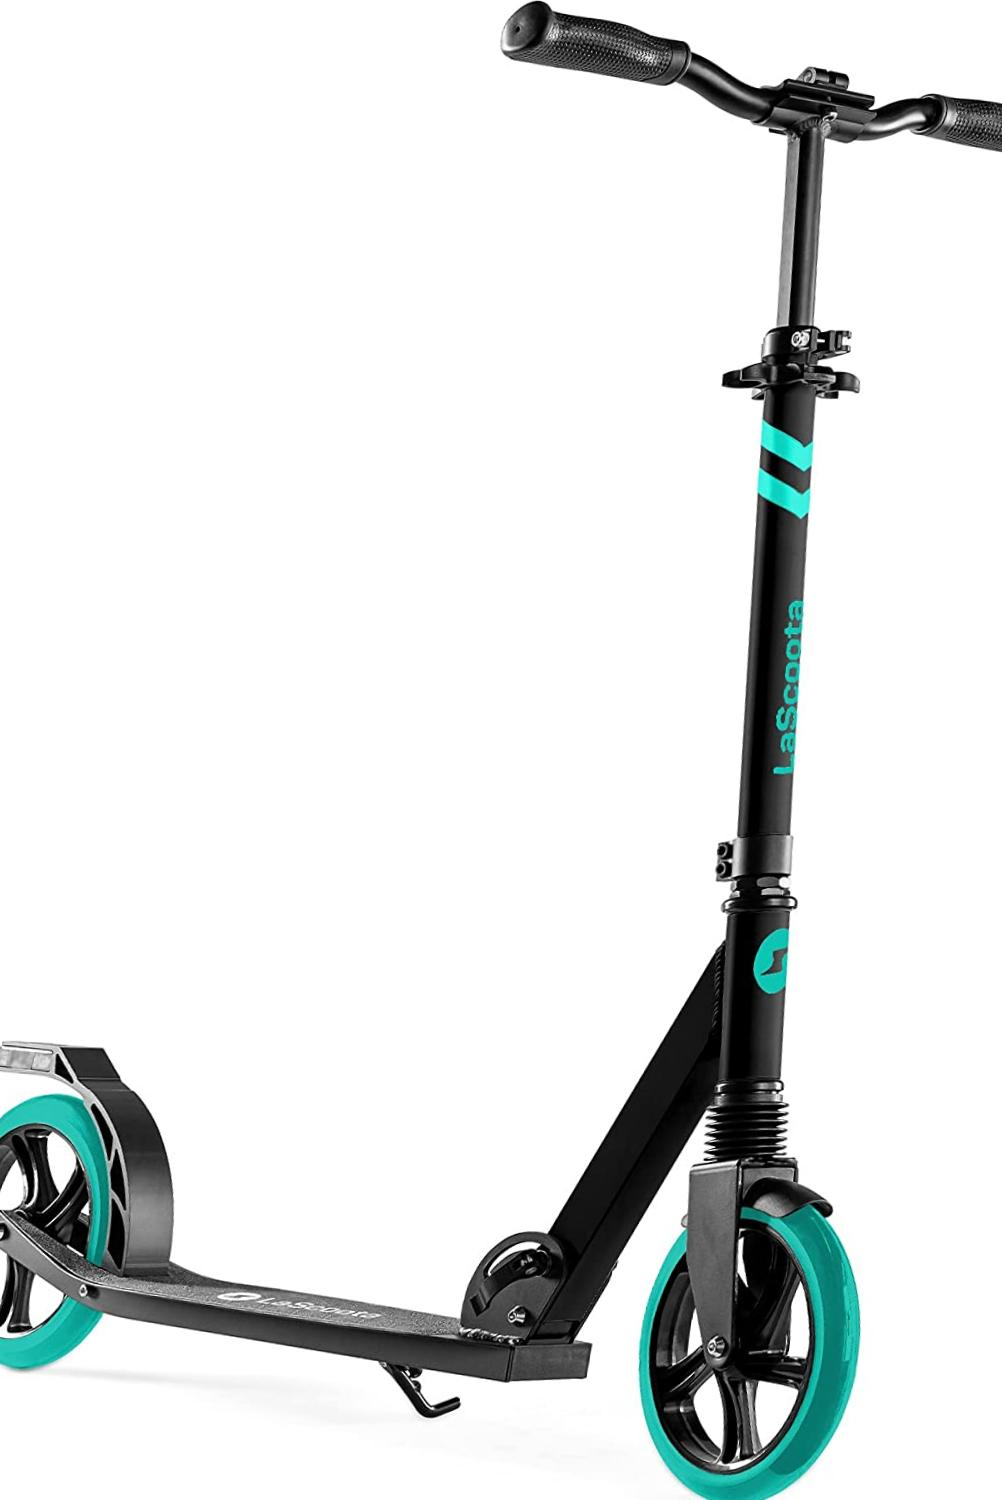scooter: (1, 1, 1002, 1500)
